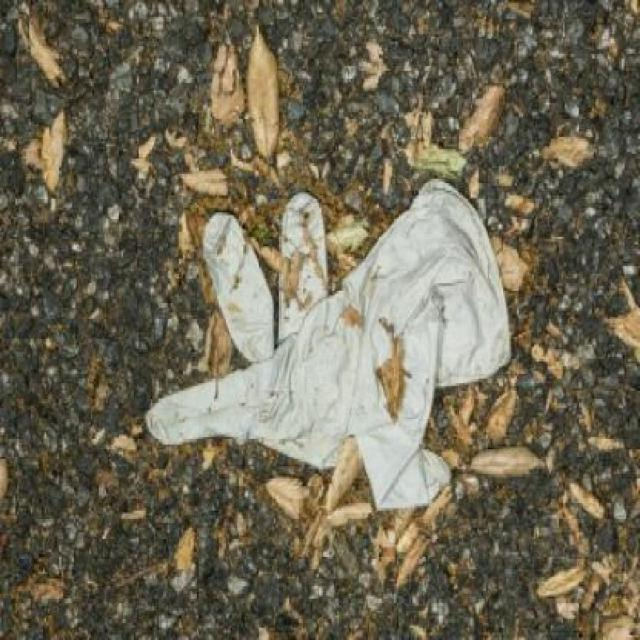gloved_hand: (114, 161, 534, 514)
